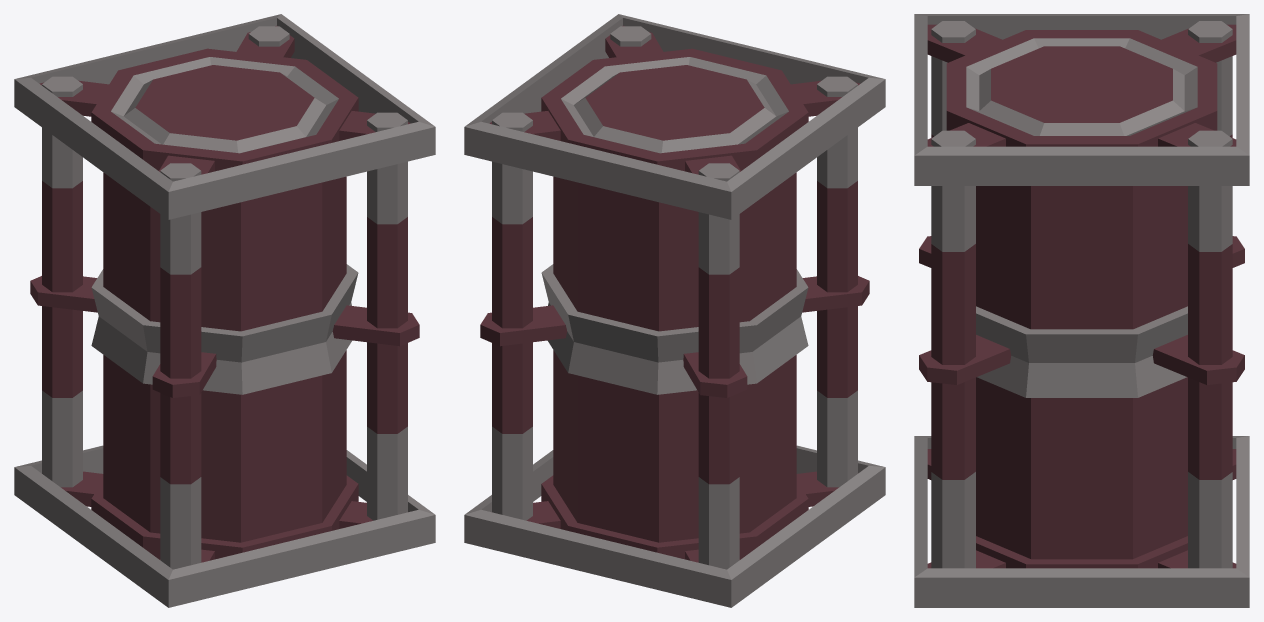
File: scifi-vial-crate.fbx
3 views of the same model, side by side, from view 1: azimuth 30°, elevation 25°; view 2: azimuth 150°, elevation 25°; view 3: azimuth 270°, elevation 25° (orthographic). The views are drawn at different scales.
Parts seen in each view (by area): view 1: scifi-vial-crate; view 2: scifi-vial-crate; view 3: scifi-vial-crate.
Part boxes in pixels (left/top/right/bottom): scifi-vial-crate: left=14, top=14, right=435, bottom=607; scifi-vial-crate: left=464, top=14, right=885, bottom=607; scifi-vial-crate: left=914, top=14, right=1249, bottom=607.
Size of the model in its own units: 1 by 1.5 by 1.
